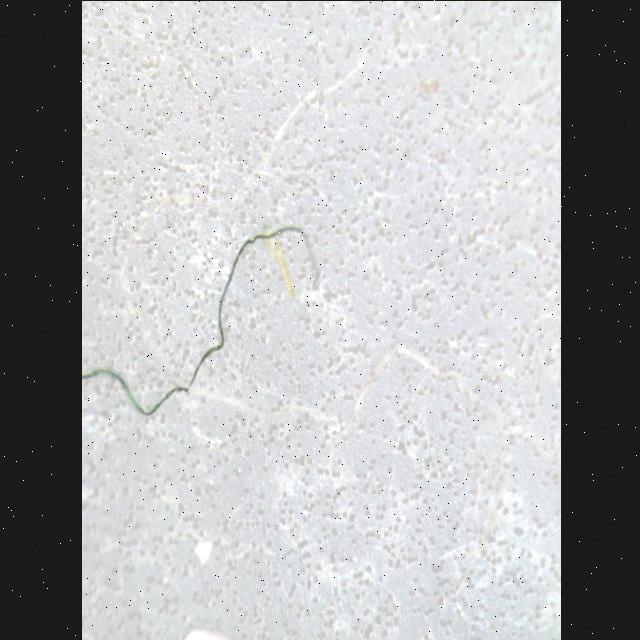Fibre: (80, 222, 326, 423)
